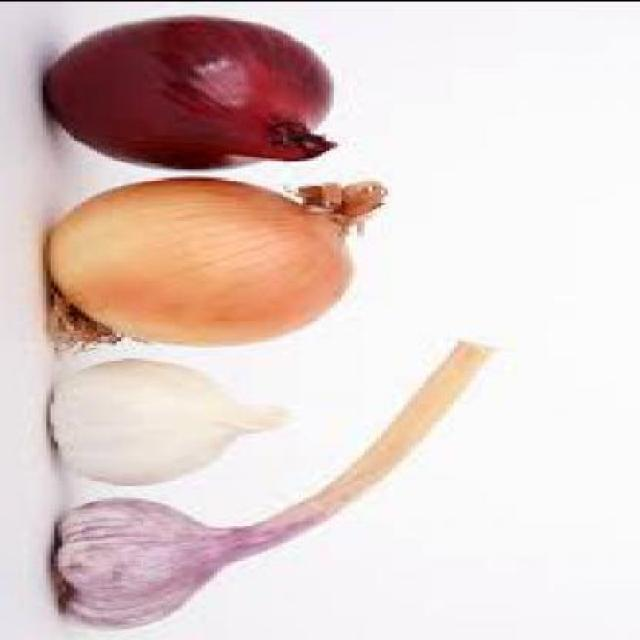BIODEGRADABLE: (58, 338, 500, 627), (47, 175, 391, 350), (46, 12, 342, 168), (54, 354, 283, 486)
